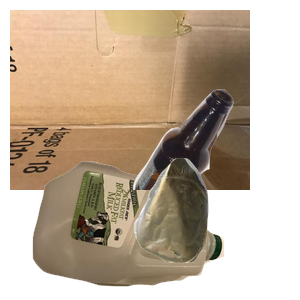cardboard: (10, 10, 250, 190)
glass: (130, 87, 300, 267)
plastic: (30, 159, 247, 300)
trash: (131, 155, 300, 300)
